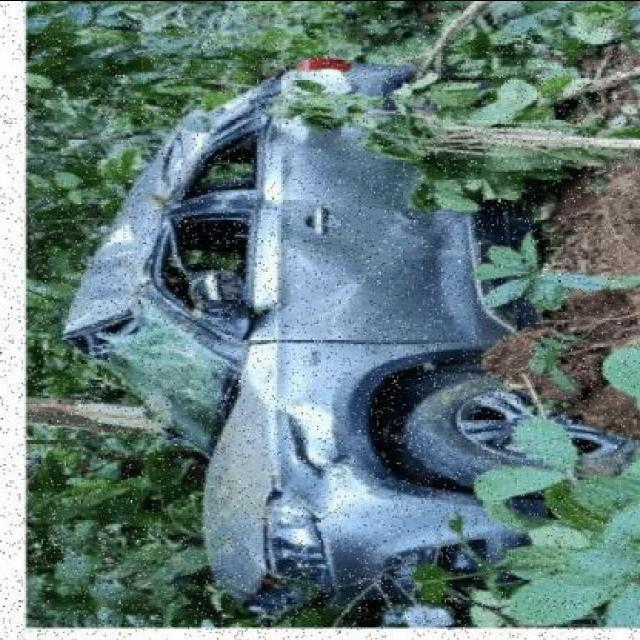Front-Windscreen-Damage: (74, 309, 252, 462)
doorouter-dent: (245, 199, 476, 337)
fender-dent: (271, 349, 453, 499)
pillar-dent: (142, 181, 270, 222)
roof-dent: (63, 125, 210, 333)
